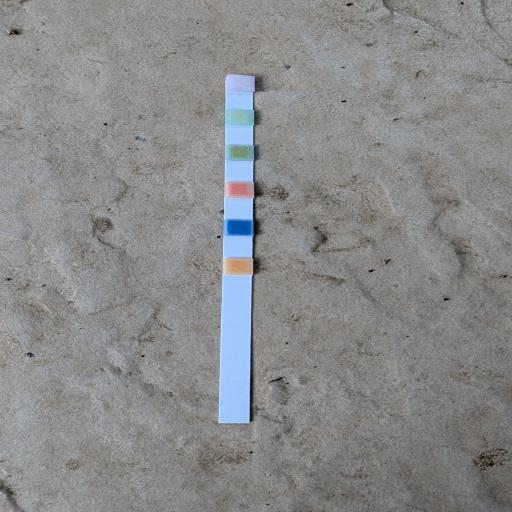strip: (223, 74, 253, 426), (226, 106, 253, 133), (223, 258, 248, 275), (226, 145, 251, 161), (226, 76, 250, 92)
